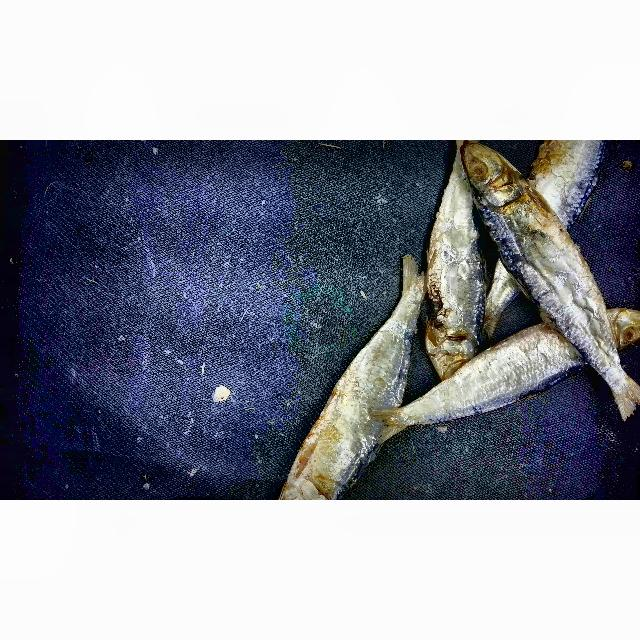Grade_C_Body: (294, 331, 420, 472), (483, 211, 610, 344), (421, 325, 564, 421), (426, 194, 487, 328), (538, 140, 605, 211)
Grade_C_Head: (458, 140, 532, 212)
Grade_C_Tail: (597, 369, 640, 421), (367, 401, 414, 445), (400, 255, 427, 305)
